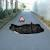Pothole: (9, 23, 46, 34)
